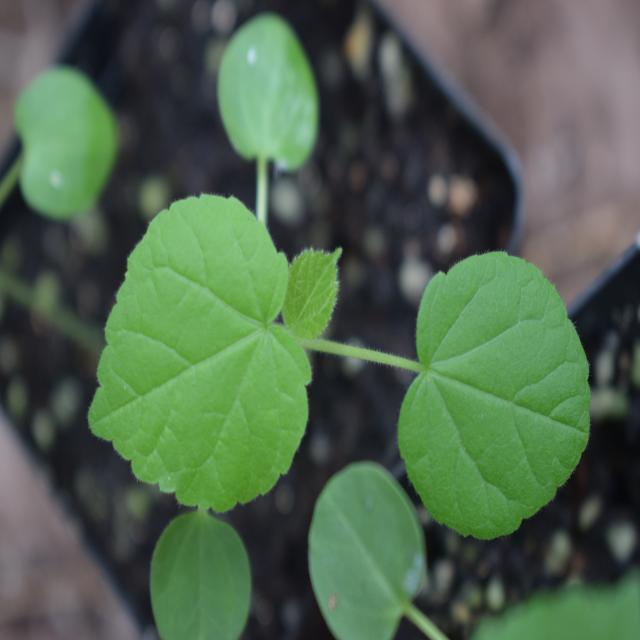abutilon theophrasti: (99, 99, 563, 564)
